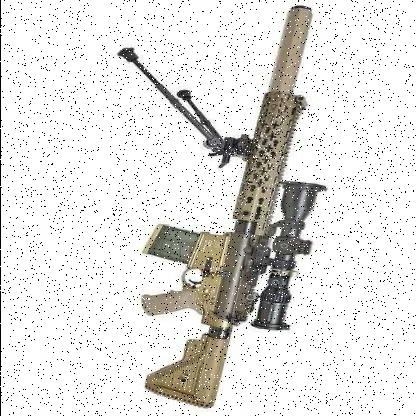rifle: (118, 1, 338, 415)
